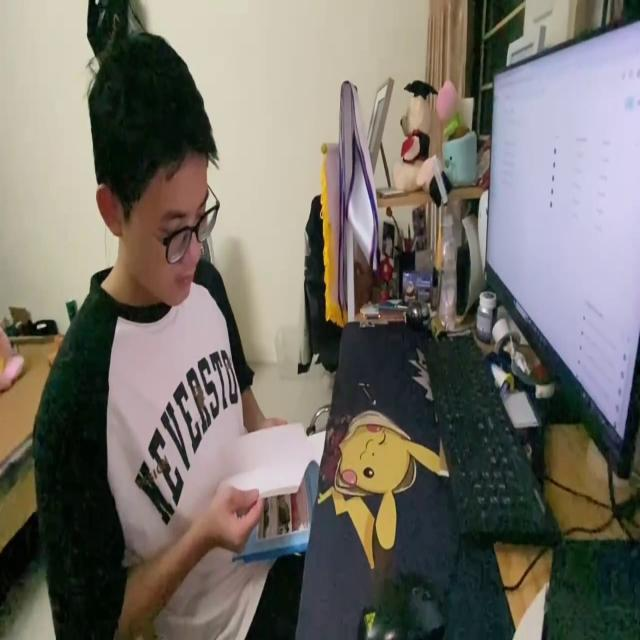book: (210, 421, 326, 563)
laptop: (480, 8, 640, 481)
student: (30, 24, 300, 640)
